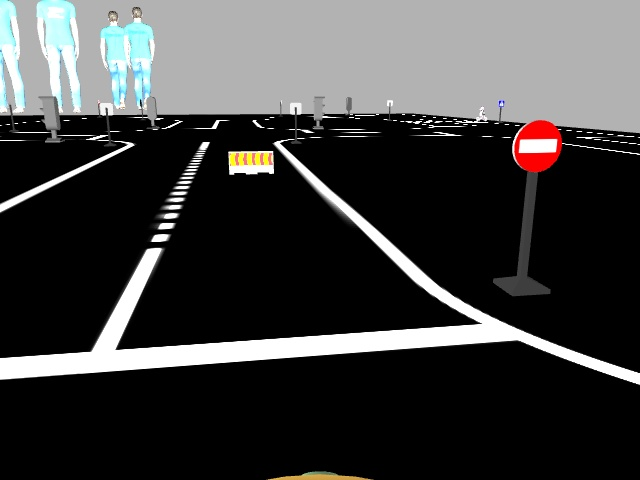ClosedRoadStand: (228, 150, 273, 170)
NoEntry: (512, 120, 561, 170)
